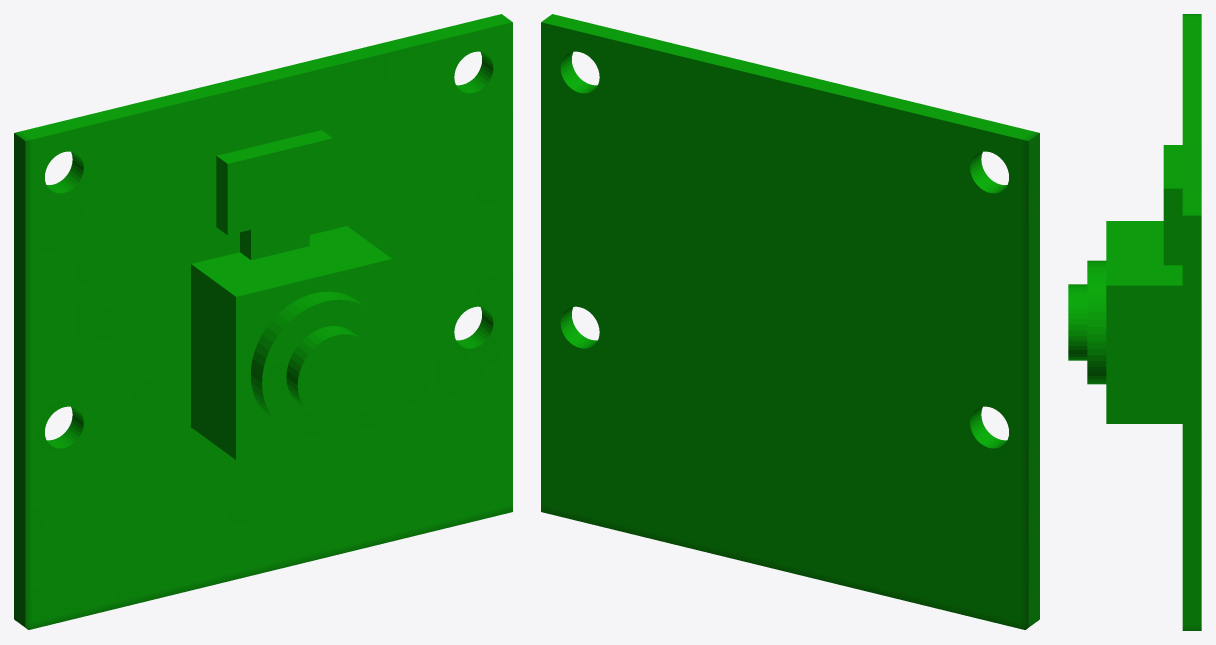
The model's file is cam.dae.
3 renders of one model, left to right at view 1: azimuth 30°, elevation 25°; view 2: azimuth 150°, elevation 25°; view 3: azimuth 270°, elevation 25°, orthographic. The views are drawn at different scales.
Parts seen in each view (by area): view 1: node; view 2: node; view 3: node.
Part boxes in pixels (x1=…): node: x1=14, y1=14, x2=512, y2=629; node: x1=541, y1=14, x2=1039, y2=629; node: x1=1068, y1=14, x2=1201, y2=630.
Bounding box in the file's own units: 0.025 × 0.024 × 0.007.
Materials: 1 (1 with a texture image).
